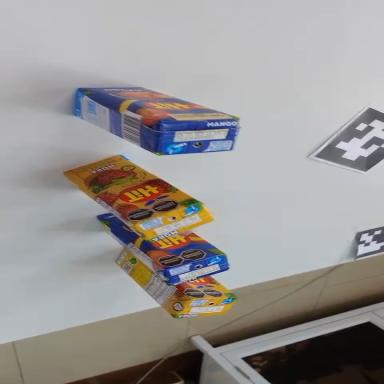HIT-MANGO: (65, 67, 242, 177), (88, 183, 234, 307)
HIT-MORA: (55, 135, 217, 264), (105, 246, 239, 334)
cara_F: (57, 134, 201, 248), (93, 182, 226, 292), (77, 70, 239, 143), (178, 274, 236, 301)
